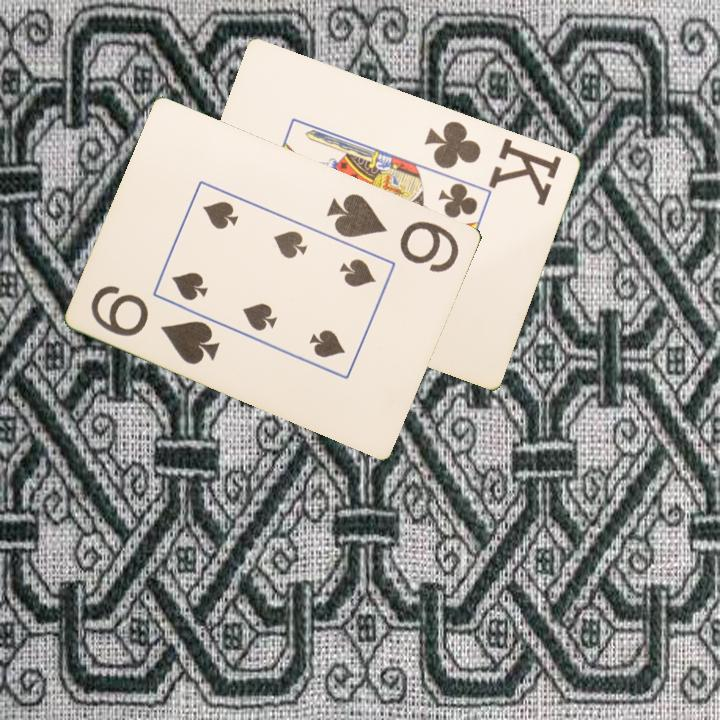6s: (323, 189, 463, 276), (87, 281, 224, 368)
Kc: (421, 117, 565, 208)
